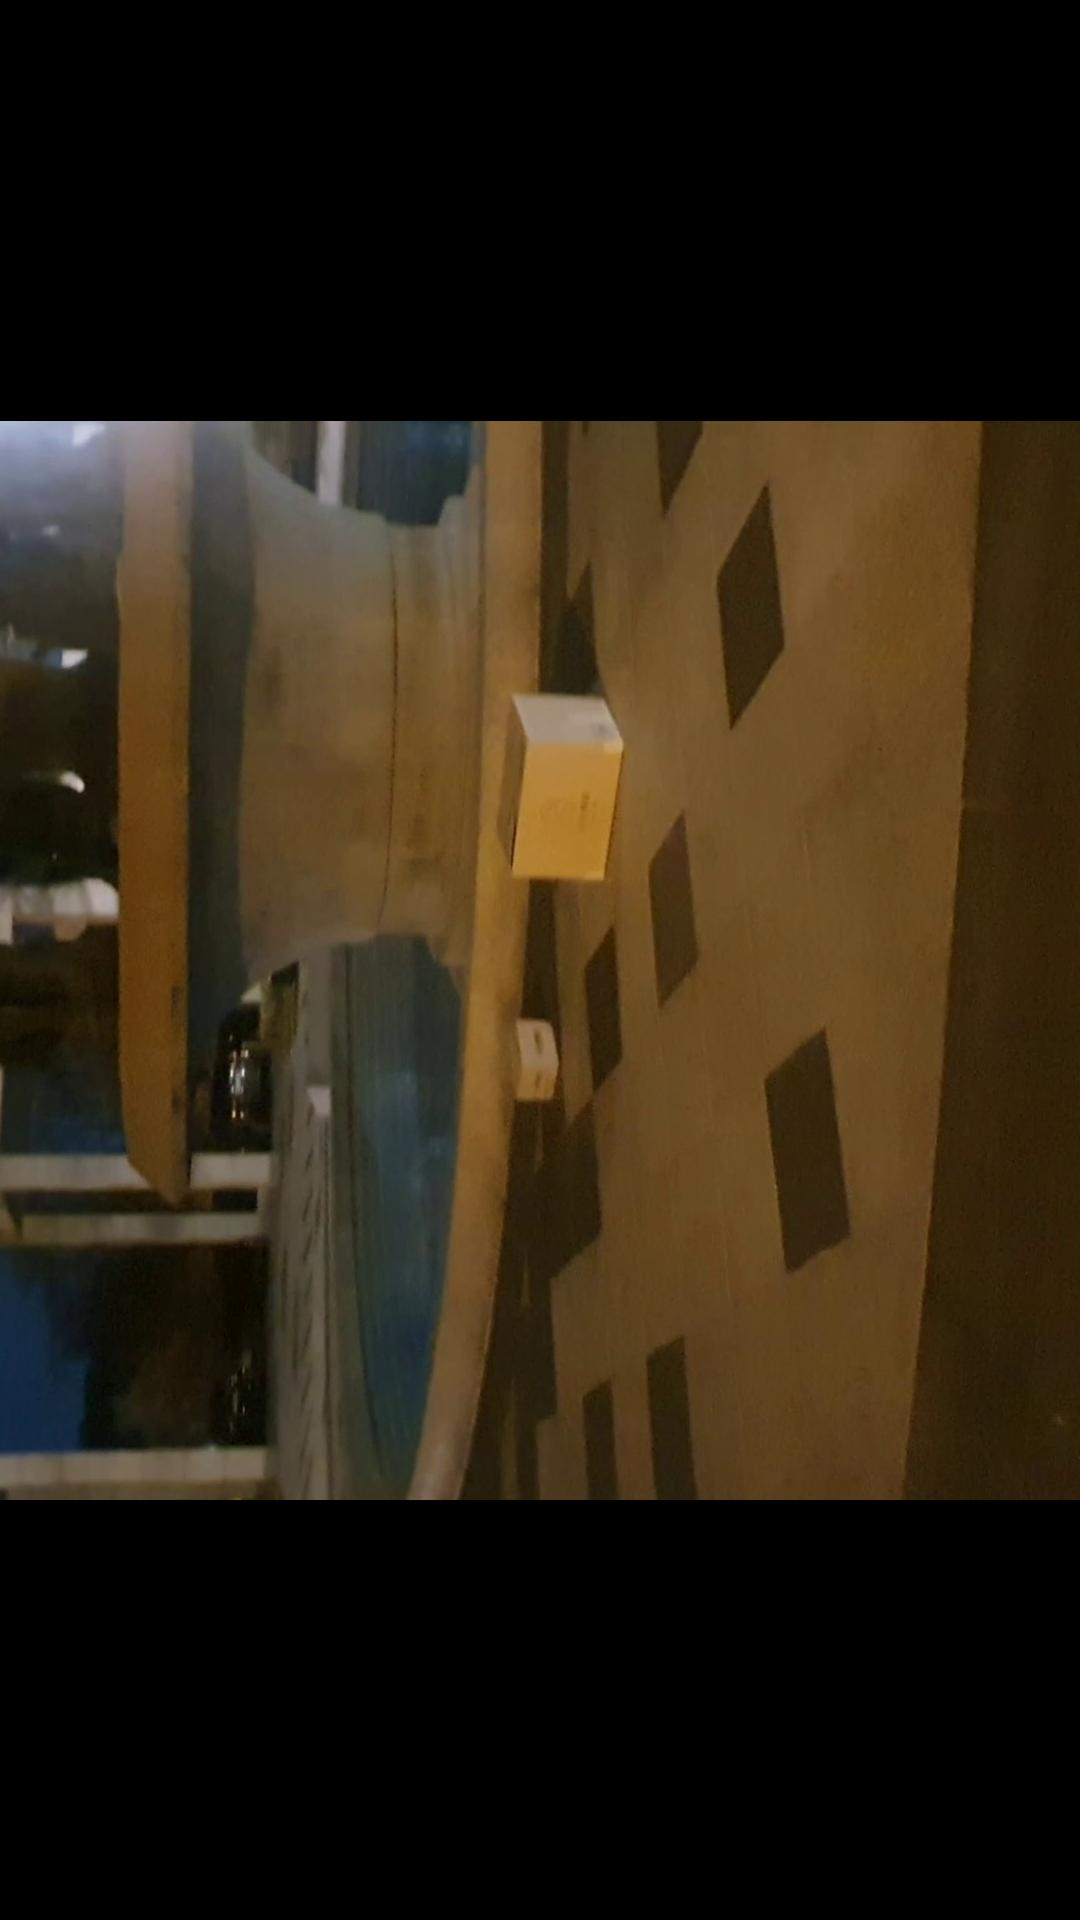Box: (480, 658, 636, 894), (495, 1018, 560, 1112)
